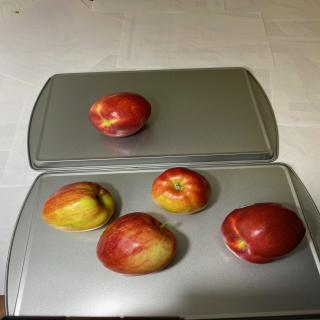Apple: (220, 202, 306, 264), (96, 212, 178, 277), (41, 181, 115, 232), (150, 167, 212, 215), (88, 92, 152, 137)
